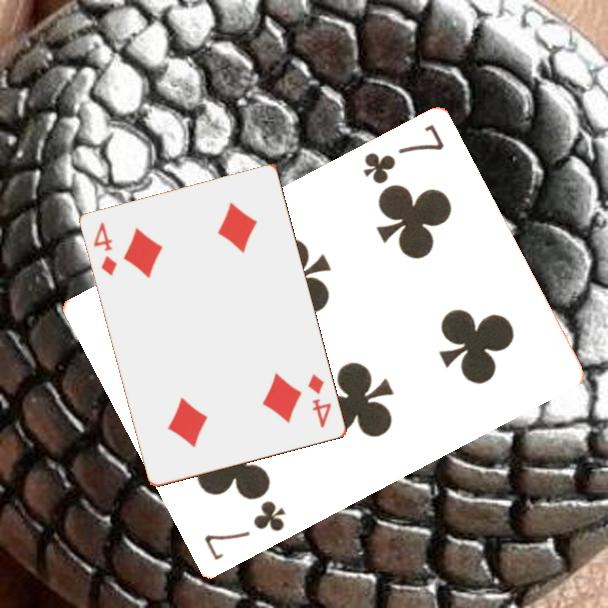c07: (200, 497, 289, 564), (359, 121, 447, 188)
d04: (305, 371, 335, 431), (90, 219, 120, 279)
